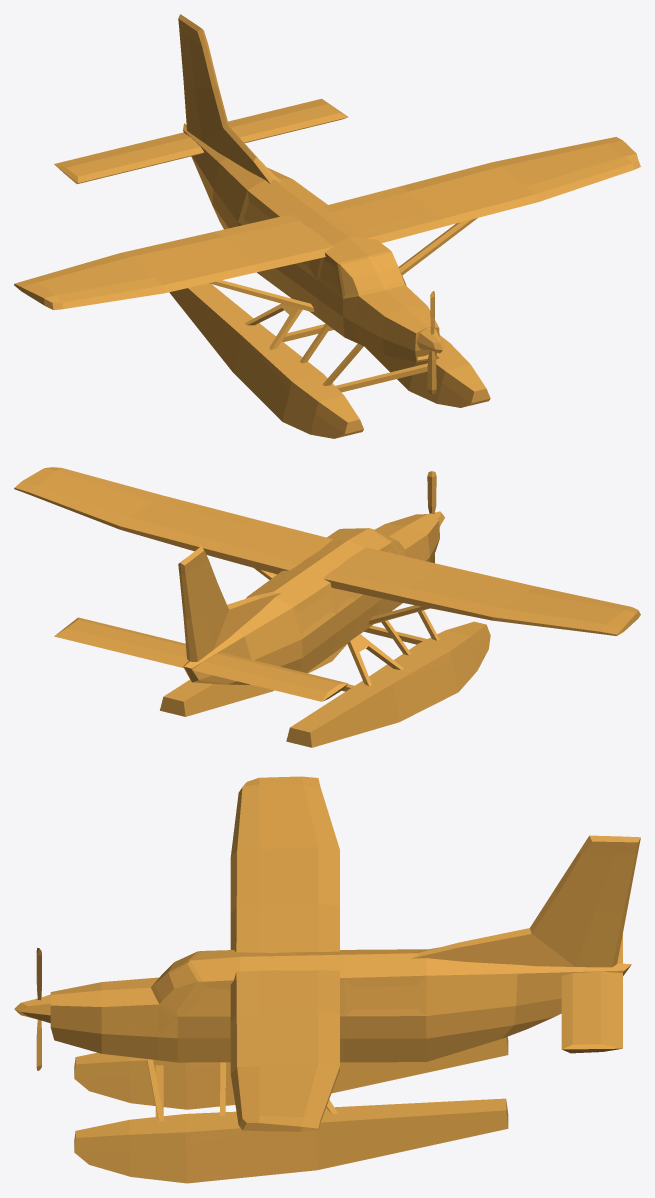
The model's file is floatplane.glb.
3 views of the same model, one above another, from view 1: azimuth 30°, elevation 25°; view 2: azimuth 150°, elevation 25°; view 3: azimuth 270°, elevation 25° (orthographic). The views are drawn at different scales.
Parts seen in each view (by area): view 1: floatplane-base, floatplane-propeller; view 2: floatplane-base, floatplane-propeller; view 3: floatplane-base, floatplane-propeller.
Boxes of the visible parts, x1,y1,x2,y2 form: floatplane-base: [14, 14, 640, 438]; floatplane-propeller: [416, 291, 444, 394]; floatplane-base: [14, 467, 640, 747]; floatplane-propeller: [427, 471, 444, 563]; floatplane-base: [50, 776, 640, 1183]; floatplane-propeller: [14, 948, 50, 1070].
Bounding box in the file's own units: 13.7 × 5.4 × 10.34.
